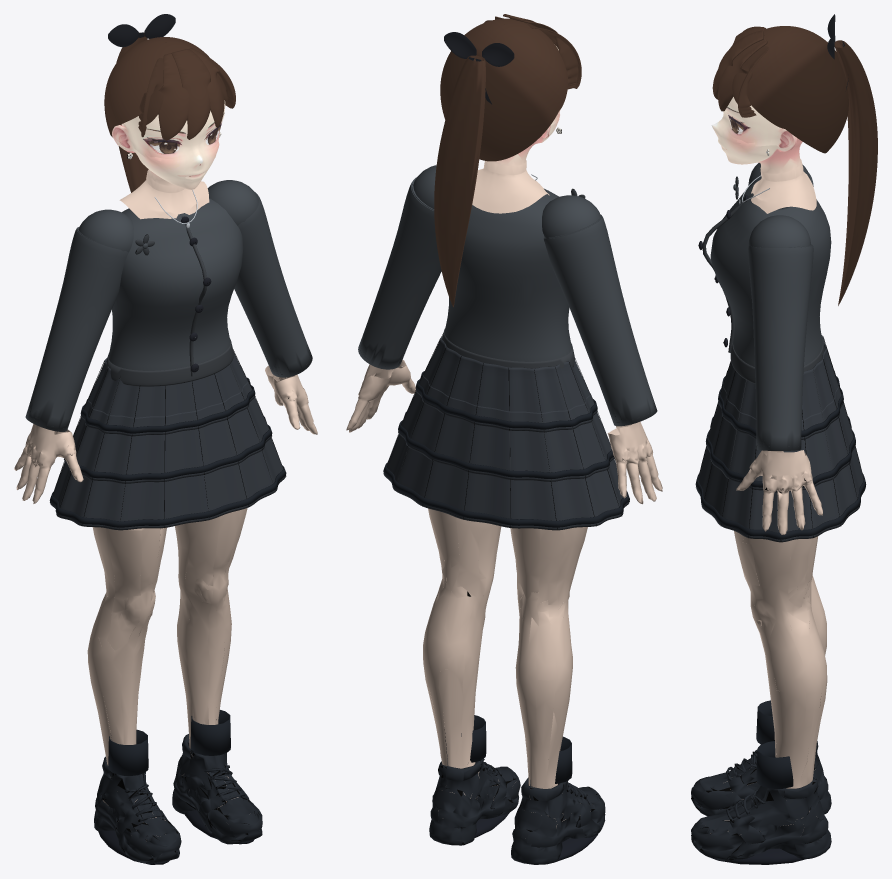
Rendered from liv-anime-v5.glb.
The picture shows the model from 3 angles, left to right: view 1: azimuth 30°, elevation 25°; view 2: azimuth 150°, elevation 25°; view 3: azimuth 270°, elevation 25°; orthographic projection. The views are drawn at different scales.
Visible parts, largest first — view 1: Body mesh, Leg_-1 mesh, Leg_1 mesh, Arm_-1 mesh, Liv v5 solid anime hair, Arm_1 mesh, Adapted original anime face — brown eyes; view 2: Body mesh, Liv v5 solid anime hair, Leg_-1 mesh, Leg_1 mesh, Arm_-1 mesh, Arm_1 mesh, Adapted original anime face — brown eyes; view 3: Body mesh, Leg_1 mesh, Liv v5 solid anime hair, Arm_1 mesh, Adapted original anime face — brown eyes, Leg_-1 mesh.
Part boxes in pixels (bbox=[...]): Body mesh: bbox=[49, 132, 286, 530]; Leg_-1 mesh: bbox=[87, 527, 181, 864]; Leg_1 mesh: bbox=[172, 508, 262, 844]; Arm_-1 mesh: bbox=[14, 209, 133, 503]; Liv v5 solid anime hair: bbox=[104, 14, 235, 192]; Arm_1 mesh: bbox=[207, 180, 317, 434]; Adapted original anime face — brown eyes: bbox=[112, 100, 225, 219]; Body mesh: bbox=[383, 127, 629, 530]; Liv v5 solid anime hair: bbox=[434, 14, 581, 307]; Leg_-1 mesh: bbox=[510, 527, 605, 864]; Leg_1 mesh: bbox=[423, 508, 520, 845]; Arm_-1 mesh: bbox=[542, 195, 662, 504]; Arm_1 mesh: bbox=[346, 165, 441, 432]; Adapted original anime face — brown eyes: bbox=[472, 46, 560, 213]; Body mesh: bbox=[695, 149, 866, 542]; Leg_1 mesh: bbox=[691, 531, 831, 864]; Liv v5 solid anime hair: bbox=[712, 14, 877, 305]; Arm_1 mesh: bbox=[736, 215, 822, 534]; Adapted original anime face — brown eyes: bbox=[711, 97, 816, 213]; Leg_-1 mesh: bbox=[691, 575, 831, 816].
Size of the model in its own units: 0.652 by 1.71 by 0.3575.
7 materials, 7 textured.
